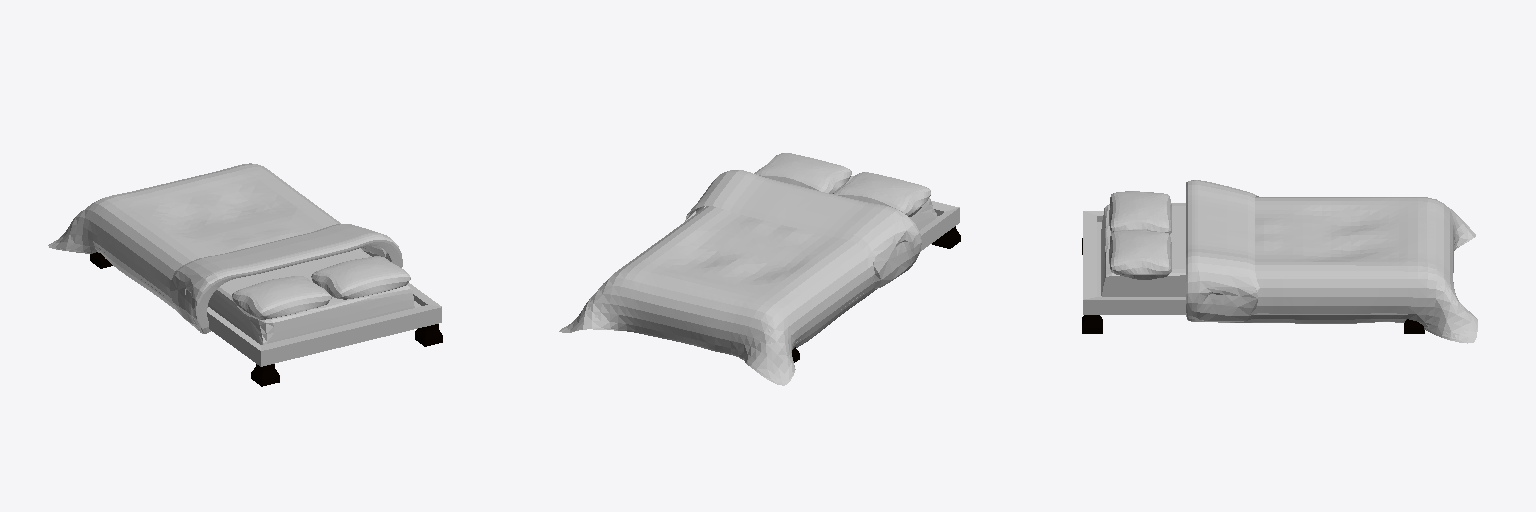
Rendered from bed_model1.obj.
3 views of the same model, side by side, from view 1: azimuth 30°, elevation 25°; view 2: azimuth 150°, elevation 25°; view 3: azimuth 270°, elevation 25° (orthographic).
Parts seen in each view (by area): view 1: Plane, Cube.003_Mesh.001, Cube.004_Cube.001, Cube.001_Mesh.004, Cube_Mesh.003; view 2: Plane, Cube.004_Cube.001, Cube.001_Mesh.004; view 3: Plane, Cube.004_Cube.001, Cube.001_Mesh.004, Cube.003_Mesh.001, Cube_Mesh.003.
Part boxes in pixels (x1,y1,x2,y2): Plane: (48, 163, 402, 333); Cube.003_Mesh.001: (208, 249, 414, 344); Cube.004_Cube.001: (232, 256, 410, 319); Cube.001_Mesh.004: (99, 248, 441, 366); Cube_Mesh.003: (90, 252, 442, 386); Plane: (559, 170, 921, 385); Cube.004_Cube.001: (754, 153, 930, 216); Cube.001_Mesh.004: (796, 201, 959, 342); Plane: (1186, 180, 1477, 343); Cube.004_Cube.001: (1109, 191, 1171, 279); Cube.001_Mesh.004: (1083, 211, 1407, 314); Cube.003_Mesh.001: (1101, 203, 1185, 296); Cube_Mesh.003: (1082, 238, 1424, 333).
Bounding box in the file's own units: 6.14 × 1.83 × 9.32.